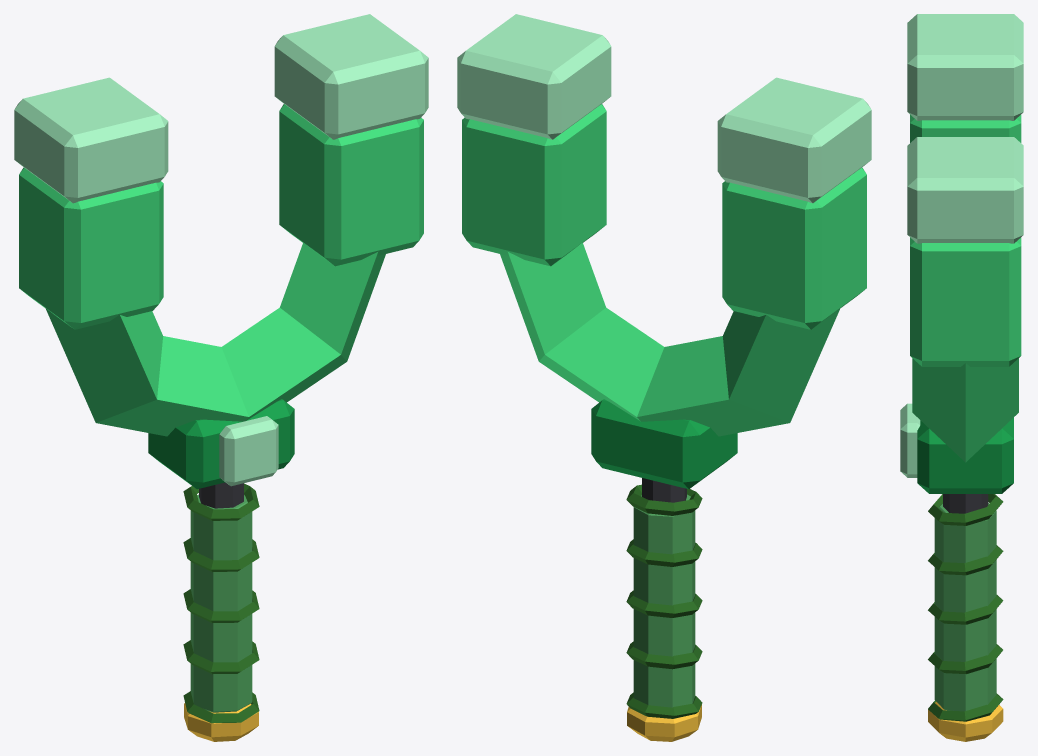
File: EmeraldCoinMagnet.fbx
The picture shows the model from 3 angles, left to right: view 1: azimuth 30°, elevation 25°; view 2: azimuth 150°, elevation 25°; view 3: azimuth 270°, elevation 25°; orthographic projection. The views are drawn at different scales.
Parts seen in each view (by area): view 1: EmeraldCoinMagnet; view 2: EmeraldCoinMagnet; view 3: EmeraldCoinMagnet.
Boxes of the visible parts, x1,y1,x2,y2 form: EmeraldCoinMagnet: (14,14,428,741); EmeraldCoinMagnet: (457,14,871,741); EmeraldCoinMagnet: (900,14,1023,741).
Size of the model in its own units: 1.68 by 2.89 by 0.51.
1 material, 1 textured.
